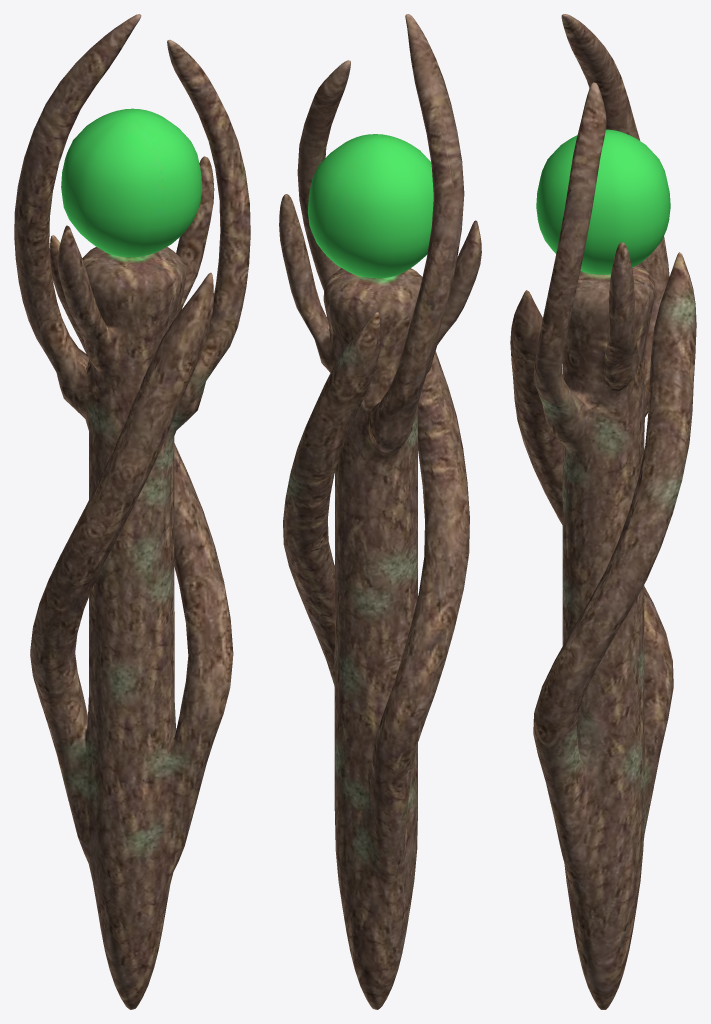
File: rootwood_rod.glb
The picture shows the model from 3 angles, left to right: view 1: azimuth 30°, elevation 25°; view 2: azimuth 150°, elevation 25°; view 3: azimuth 270°, elevation 25°; orthographic projection. The views are drawn at different scales.
Parts seen in each view (by area): view 1: rootwood_rod; view 2: rootwood_rod; view 3: rootwood_rod.
Boxes of the visible parts, <box> form: rootwood_rod: <box>14,14,250,1009</box>; rootwood_rod: <box>279,14,481,1009</box>; rootwood_rod: <box>510,14,696,1009</box>.
Bounding box in the file's own units: 0.1909 × 0.95 × 0.1623.
1 material, 1 textured.
